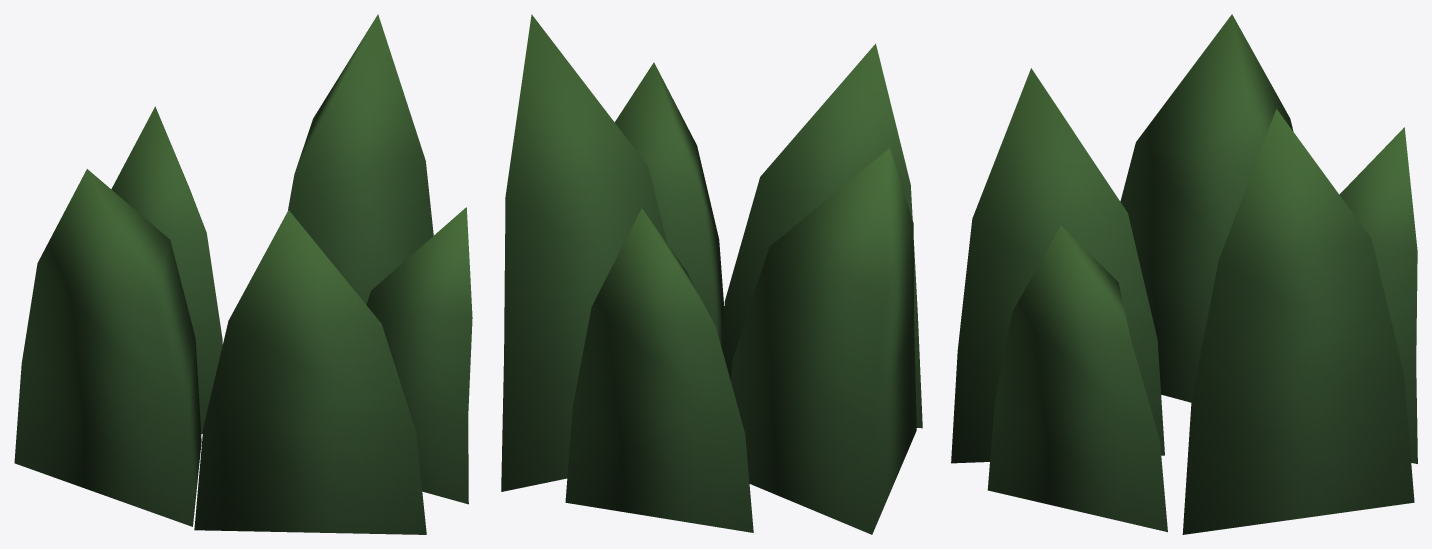
Rendered from TopGrass_Swamp_TuftSmall.fbx.
3 renders of one model, left to right at view 1: azimuth 30°, elevation 25°; view 2: azimuth 150°, elevation 25°; view 3: azimuth 270°, elevation 25°, orthographic. The views are drawn at different scales.
Parts seen in each view (by area): view 1: TopGrass_Swamp_TuftSmall_LOD0; view 2: TopGrass_Swamp_TuftSmall_LOD0; view 3: TopGrass_Swamp_TuftSmall_LOD0.
Part boxes in pixels (x1,y1,x2,y2): TopGrass_Swamp_TuftSmall_LOD0: [14, 14, 472, 534]; TopGrass_Swamp_TuftSmall_LOD0: [501, 14, 922, 534]; TopGrass_Swamp_TuftSmall_LOD0: [951, 14, 1417, 534].
Size of what is drawn, in the model's own units: 0.2862 by 0.2823 by 0.2892.
